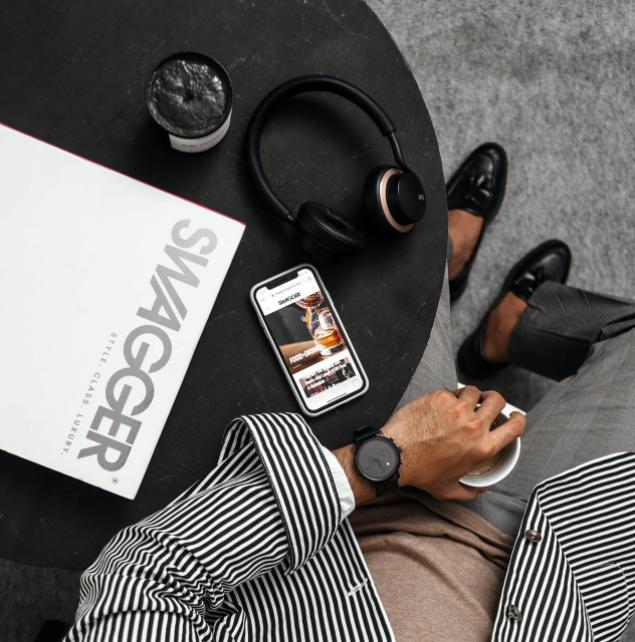mobile: (250, 263, 372, 419)
